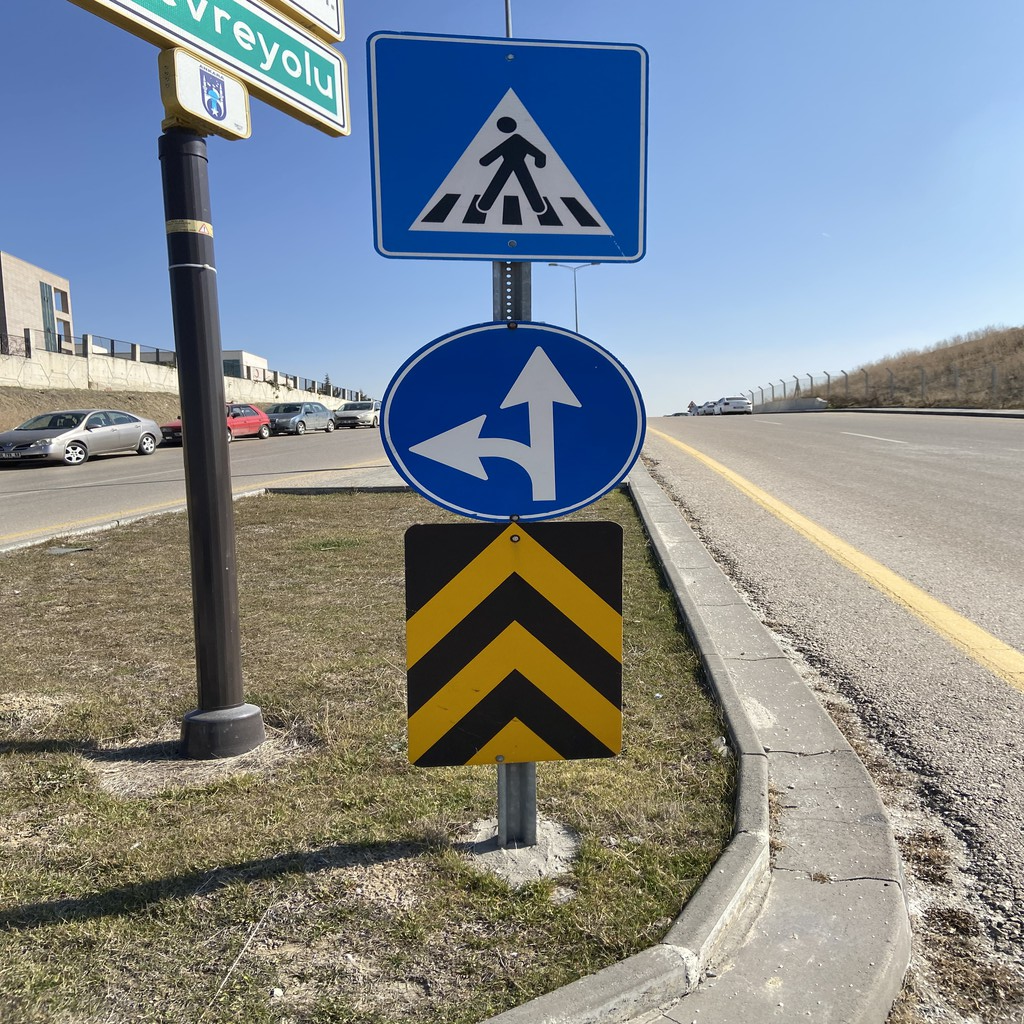Yaya Gecidi: (368, 33, 647, 266)
ileri ve Sola Mecburi Don: (376, 318, 655, 510)
